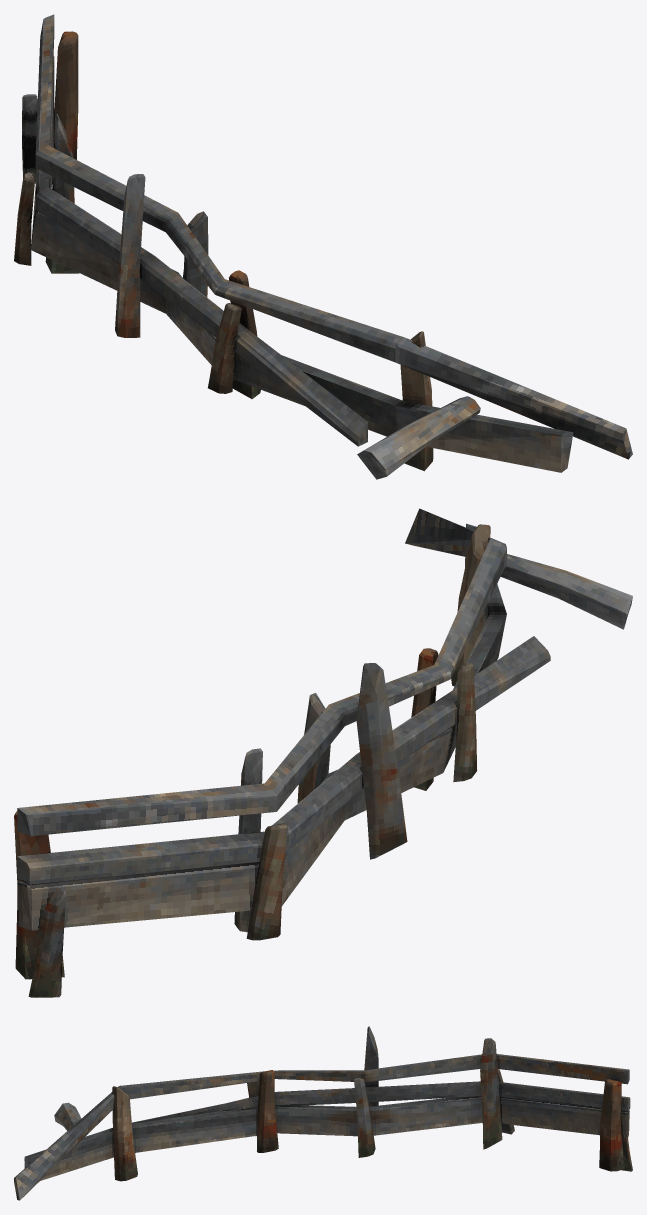
Rendered from Curve_fence_01.glb.
3 views of the same model, one above another, from view 1: azimuth 30°, elevation 25°; view 2: azimuth 150°, elevation 25°; view 3: azimuth 270°, elevation 25° (orthographic). The views are drawn at different scales.
Visible parts, largest first — view 1: Curve_fence_01; view 2: Curve_fence_01; view 3: Curve_fence_01.
Part boxes in pixels (x1,y1,x2,y2): Curve_fence_01: (14, 14, 632, 479); Curve_fence_01: (14, 508, 632, 997); Curve_fence_01: (14, 1026, 632, 1200).
Bounding box in the file's own units: 8.15 × 5.47 × 25.36.
Materials: 1 (1 with a texture image).
